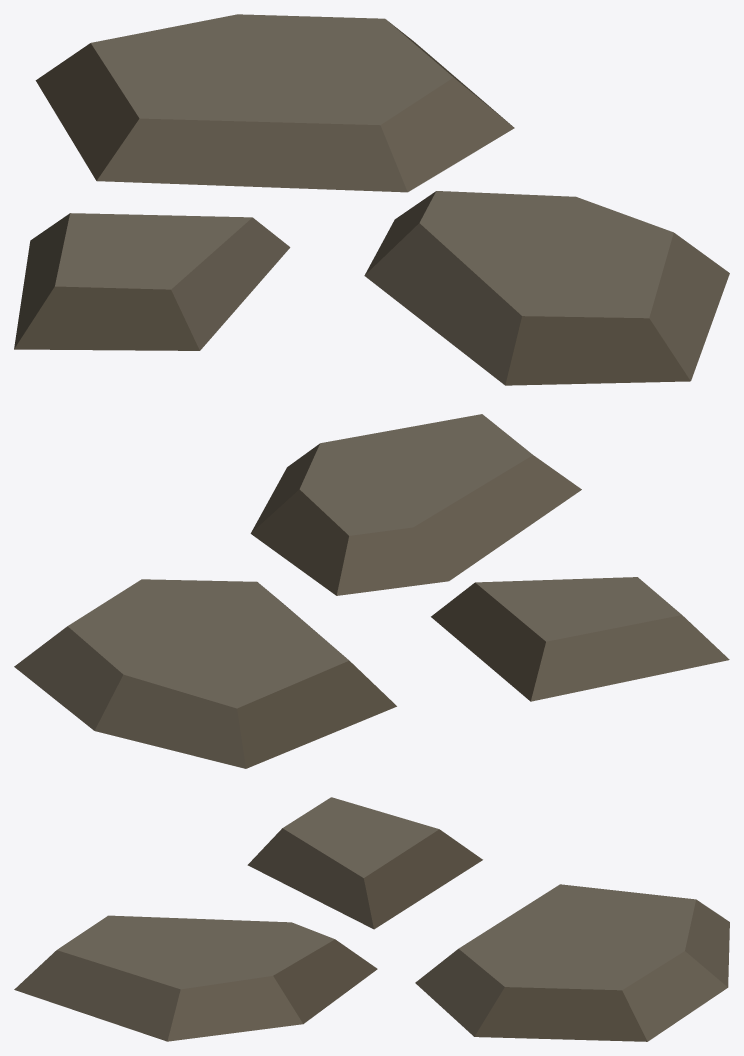
File: SF_Env_Stones_02.FBX
3 views of the same model, one above another, from view 1: azimuth 30°, elevation 25°; view 2: azimuth 150°, elevation 25°; view 3: azimuth 270°, elevation 25° (orthographic). The views are drawn at different scales.
Visible parts, largest first — view 1: SF_Env_Stones_02_Elements3, SF_Env_Stones_02_Elements1, SF_Env_Stones_02_Elements2; view 2: SF_Env_Stones_02_Elements3, SF_Env_Stones_02_Elements1, SF_Env_Stones_02_Elements2; view 3: SF_Env_Stones_02_Elements3, SF_Env_Stones_02_Elements1, SF_Env_Stones_02_Elements2.
Boxes of the visible parts, left/top/right/bottom form: SF_Env_Stones_02_Elements3: left=35, top=14, right=514, bottom=192; SF_Env_Stones_02_Elements1: left=364, top=191, right=729, bottom=385; SF_Env_Stones_02_Elements2: left=14, top=213, right=290, bottom=350; SF_Env_Stones_02_Elements3: left=14, top=579, right=396, bottom=768; SF_Env_Stones_02_Elements1: left=250, top=414, right=581, bottom=595; SF_Env_Stones_02_Elements2: left=431, top=577, right=729, bottom=701; SF_Env_Stones_02_Elements3: left=415, top=884, right=729, bottom=1041; SF_Env_Stones_02_Elements1: left=14, top=915, right=377, bottom=1041; SF_Env_Stones_02_Elements2: left=247, top=797, right=482, bottom=929.
Size of the model in its own units: 4.47 by 0.3187 by 5.94.
